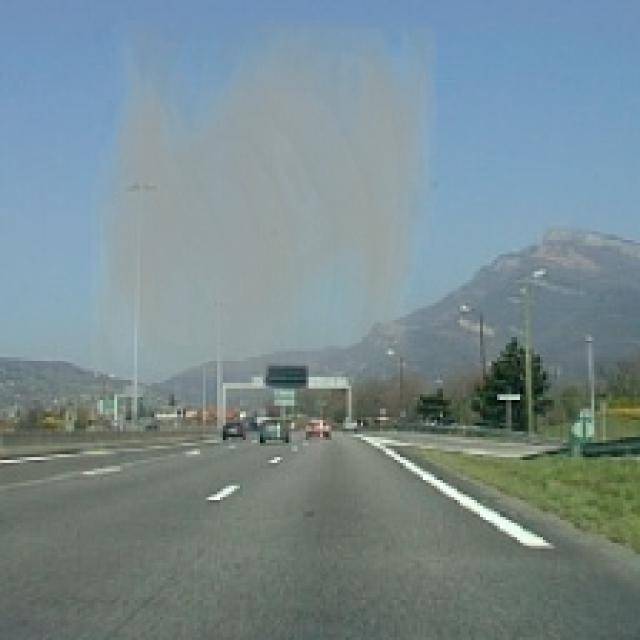Smoke: (92, 20, 437, 377)
